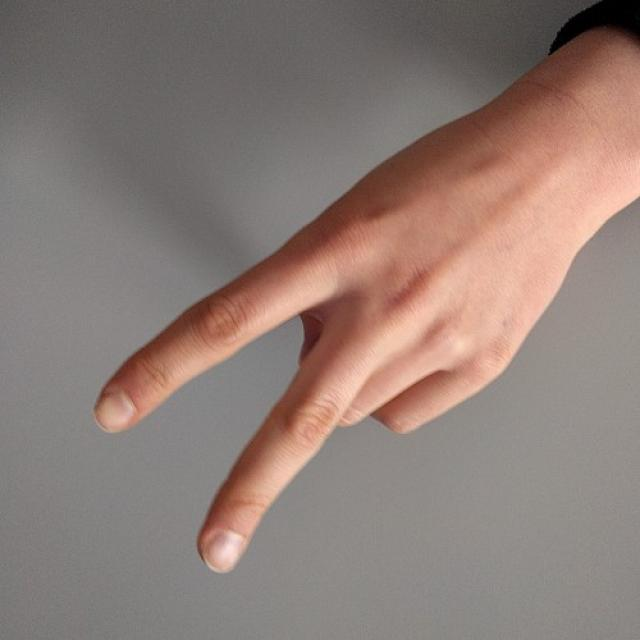scissors: (90, 174, 552, 572)
